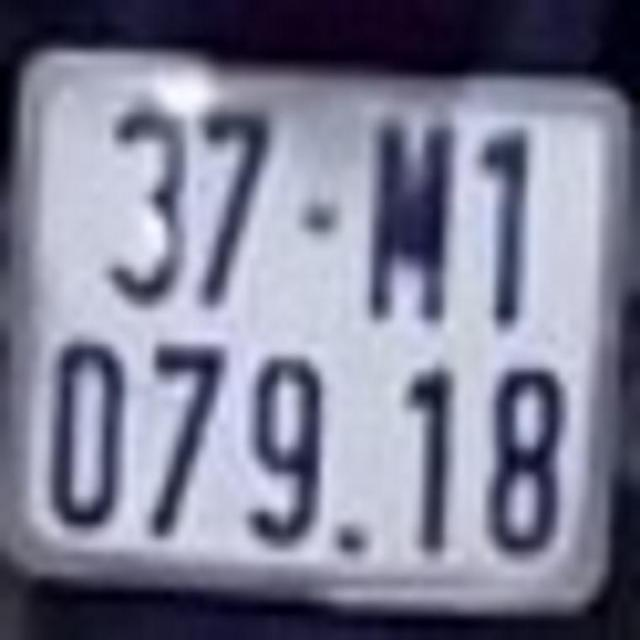0: (50, 338, 120, 525)
1: (479, 122, 532, 322), (411, 366, 456, 554)
3: (111, 102, 180, 304)
7: (142, 338, 222, 537), (204, 111, 279, 320)
8: (498, 366, 556, 558)
9: (249, 354, 311, 548)
M: (376, 119, 452, 328)
